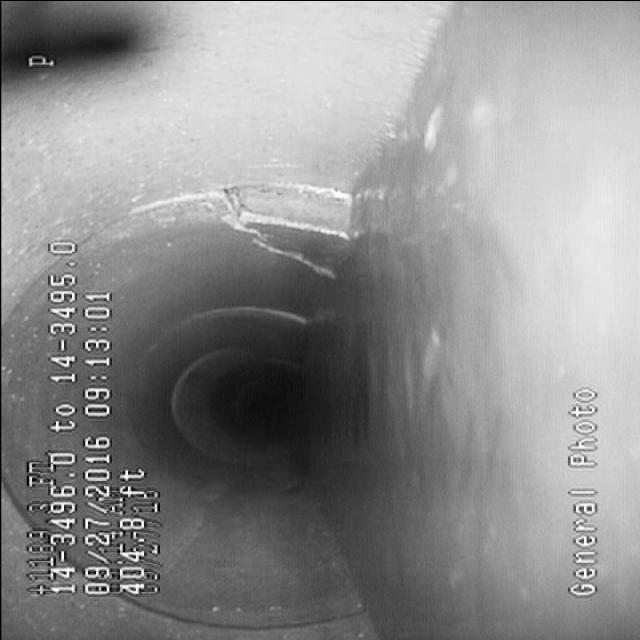Fracture: (189, 156, 368, 278)
